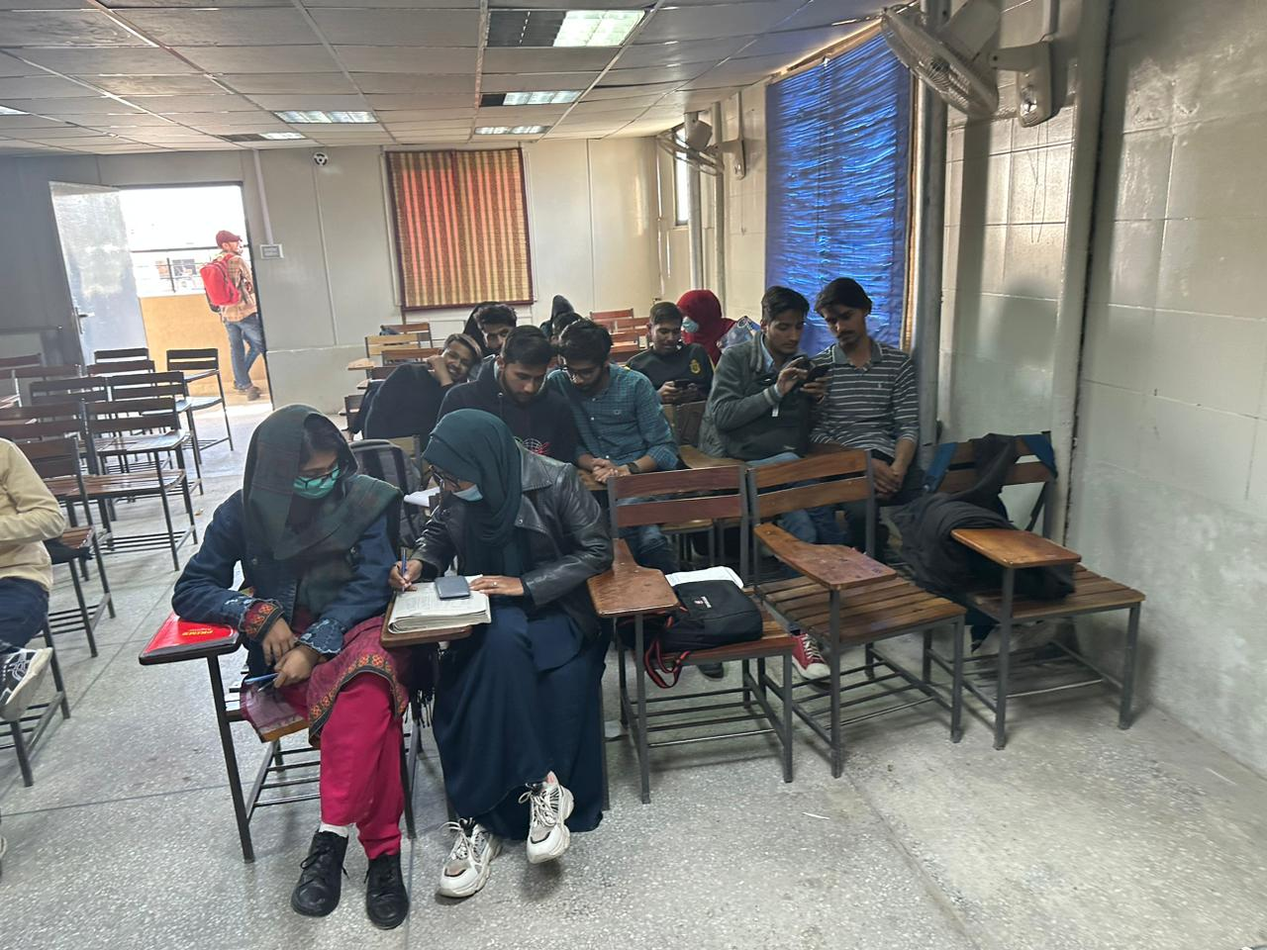non-cheating: (500, 326, 555, 407), (555, 318, 614, 392), (814, 277, 873, 346), (758, 284, 809, 353), (645, 302, 682, 357), (478, 305, 512, 355)
phone: (775, 355, 834, 399), (657, 377, 705, 403)
